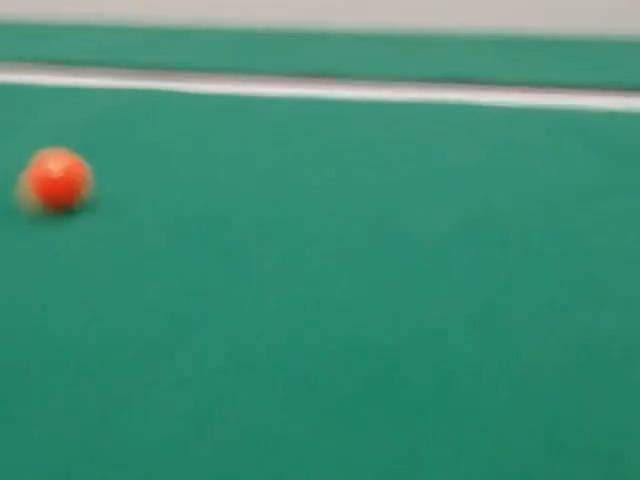Ball: (18, 148, 92, 213)
